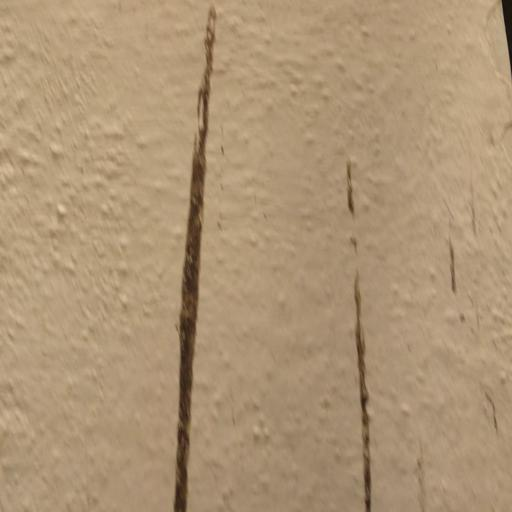stain: (148, 8, 257, 512), (320, 130, 401, 512), (439, 139, 512, 446), (470, 109, 512, 182), (411, 431, 446, 512)
